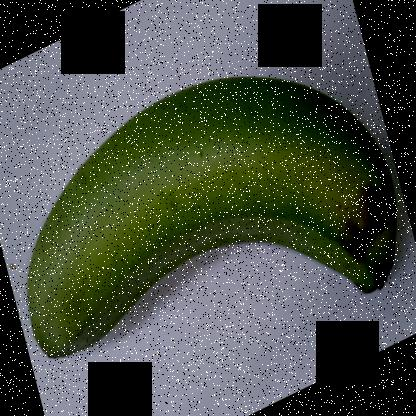freshunripe: (21, 52, 401, 377)
